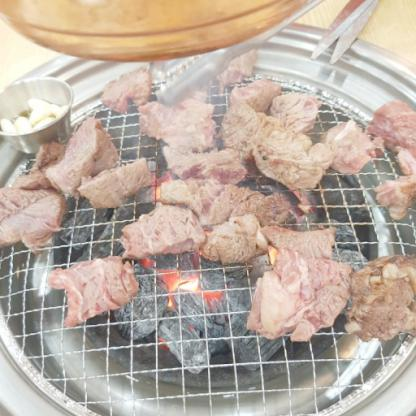Carne: (247, 235, 356, 338), (207, 97, 318, 192), (198, 187, 288, 260), (54, 252, 139, 321), (347, 260, 415, 345), (109, 206, 206, 264), (140, 93, 228, 151), (33, 131, 116, 191), (80, 157, 159, 215), (0, 176, 62, 242), (332, 119, 383, 167)
